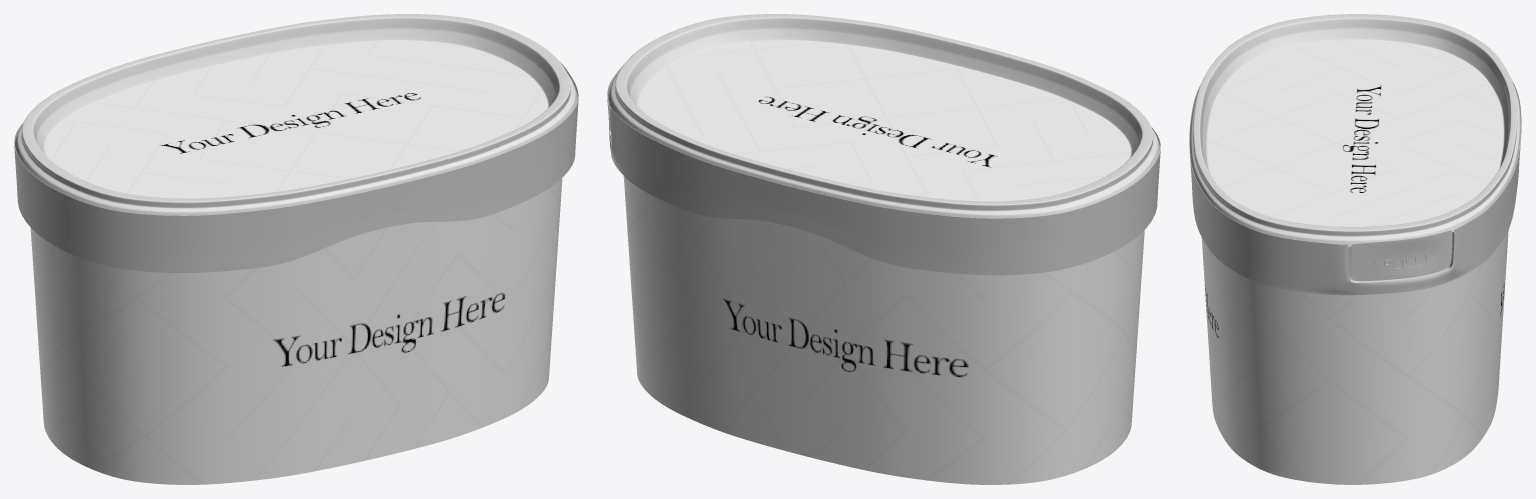
Rendered from oval .glb.
3 views of the same model, side by side, from view 1: azimuth 30°, elevation 25°; view 2: azimuth 150°, elevation 25°; view 3: azimuth 270°, elevation 25° (orthographic). The views are drawn at different scales.
Parts seen in each view (by area): view 1: wrapper, Bottom.007, Bottom.009; view 2: wrapper, Bottom.007, Bottom.009; view 3: wrapper, Bottom.009, Bottom.007, Bottom.008.
Part boxes in pixels (x1,y1,x2,y2): wrapper: [30, 40, 562, 484]; Bottom.007: [14, 61, 578, 272]; Bottom.009: [15, 14, 577, 215]; wrapper: [623, 40, 1144, 484]; Bottom.007: [607, 62, 1160, 275]; Bottom.009: [608, 14, 1160, 218]; wrapper: [1201, 39, 1508, 484]; Bottom.009: [1189, 14, 1521, 246]; Bottom.007: [1189, 80, 1521, 295]; Bottom.008: [1348, 231, 1454, 282].
Size of the model in its own units: 0.138 by 0.0751 by 0.0864.
3 materials, 1 textured.
